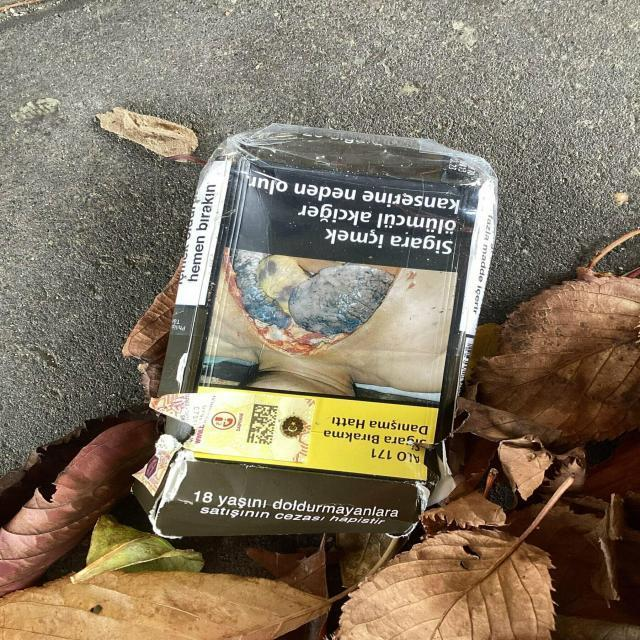Paper: (122, 120, 502, 546)
